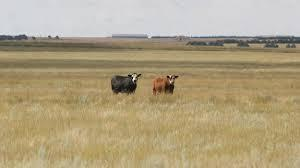cow: (111, 73, 140, 96), (153, 75, 180, 97)
